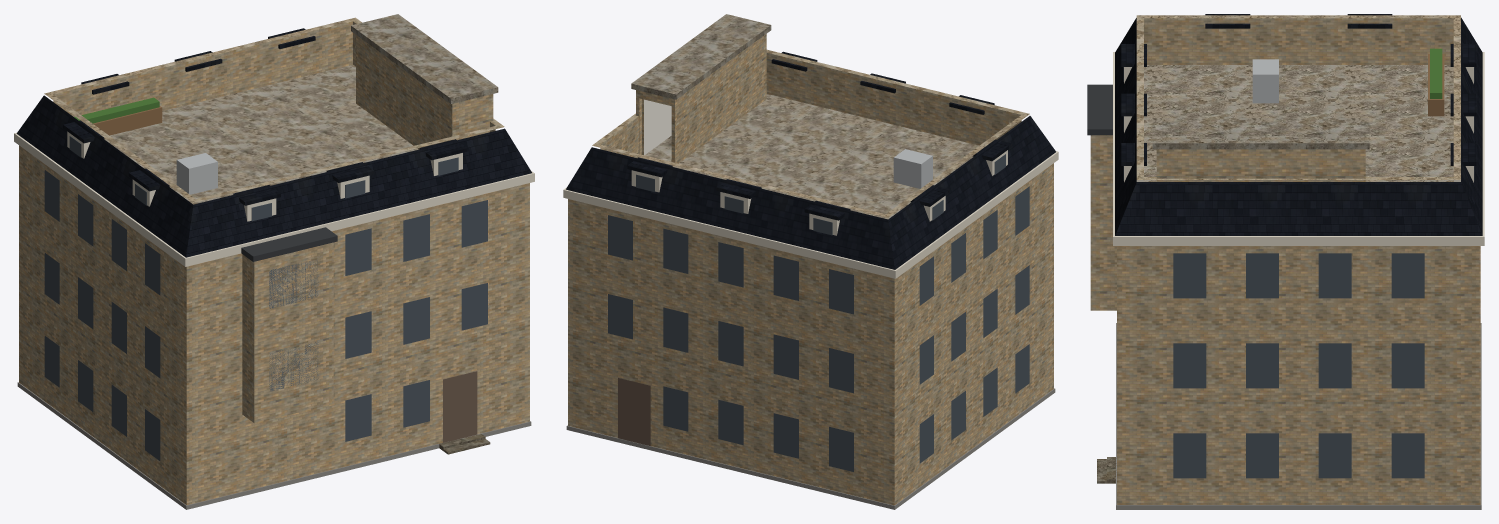
File: ns-mansard-flats.towns-v1.lod1.glb
3 views of the same model, side by side, from view 1: azimuth 30°, elevation 25°; view 2: azimuth 150°, elevation 25°; view 3: azimuth 270°, elevation 25° (orthographic). The views are drawn at different scales.
Visible parts, largest first — view 1: ns-mansard-flats; view 2: ns-mansard-flats; view 3: ns-mansard-flats.
Part boxes in pixels (bbox=[...]): ns-mansard-flats: bbox=[14, 14, 534, 509]; ns-mansard-flats: bbox=[563, 14, 1058, 509]; ns-mansard-flats: bbox=[1087, 14, 1484, 509].
Size of the model in its own units: 13.24 by 11.95 by 12.02.
Materials: 4 (3 with a texture image).
